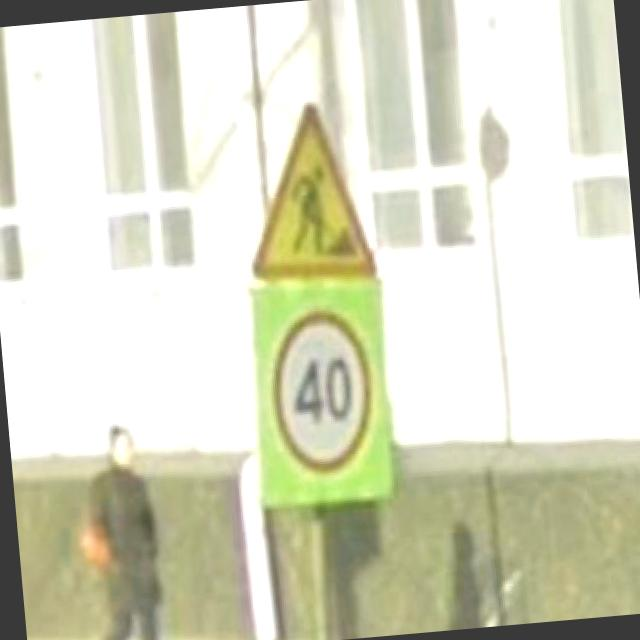Ograniczenie predkosci do 40: (264, 304, 380, 474)
